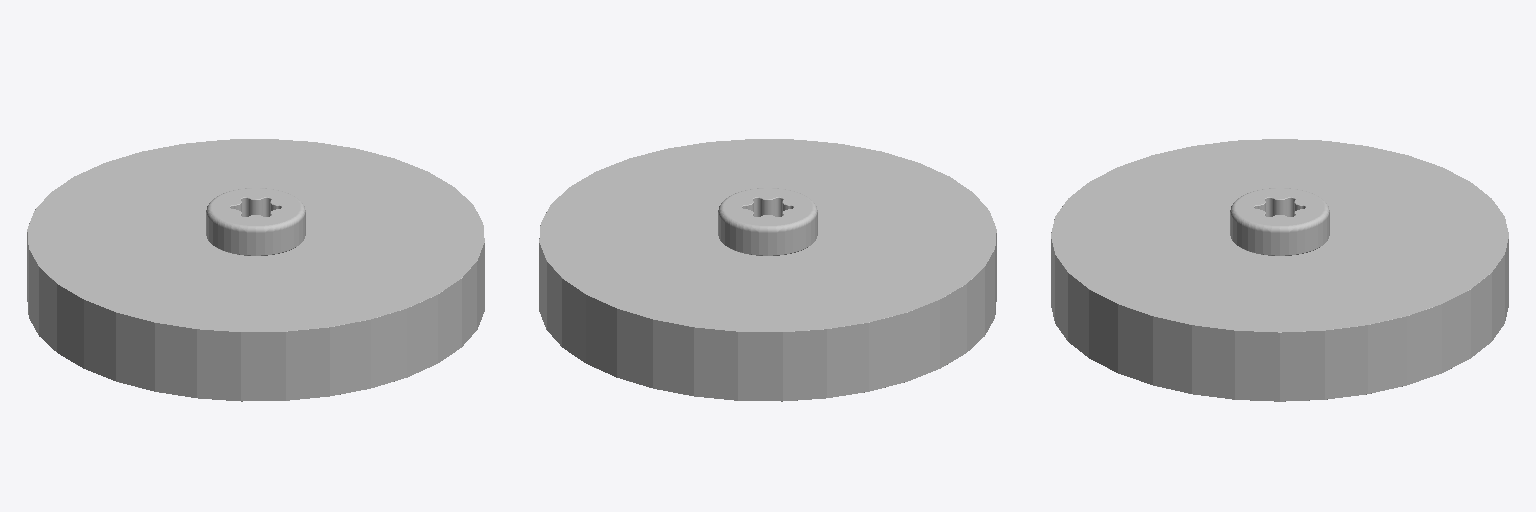
The model's file is filament cap.obj.
3 renders of one model, left to right at view 1: azimuth 30°, elevation 25°; view 2: azimuth 150°, elevation 25°; view 3: azimuth 270°, elevation 25°, orthographic.
Parts seen in each view (by area): view 1: filament_cap_Cylinder.001; view 2: filament_cap_Cylinder.001; view 3: filament_cap_Cylinder.001.
Part boxes in pixels (x1,y1,x2,y2): filament_cap_Cylinder.001: (27, 139, 484, 401); filament_cap_Cylinder.001: (539, 139, 996, 401); filament_cap_Cylinder.001: (1051, 139, 1508, 401).
Size of the model in its own units: 0.06 by 0.0141 by 0.06.